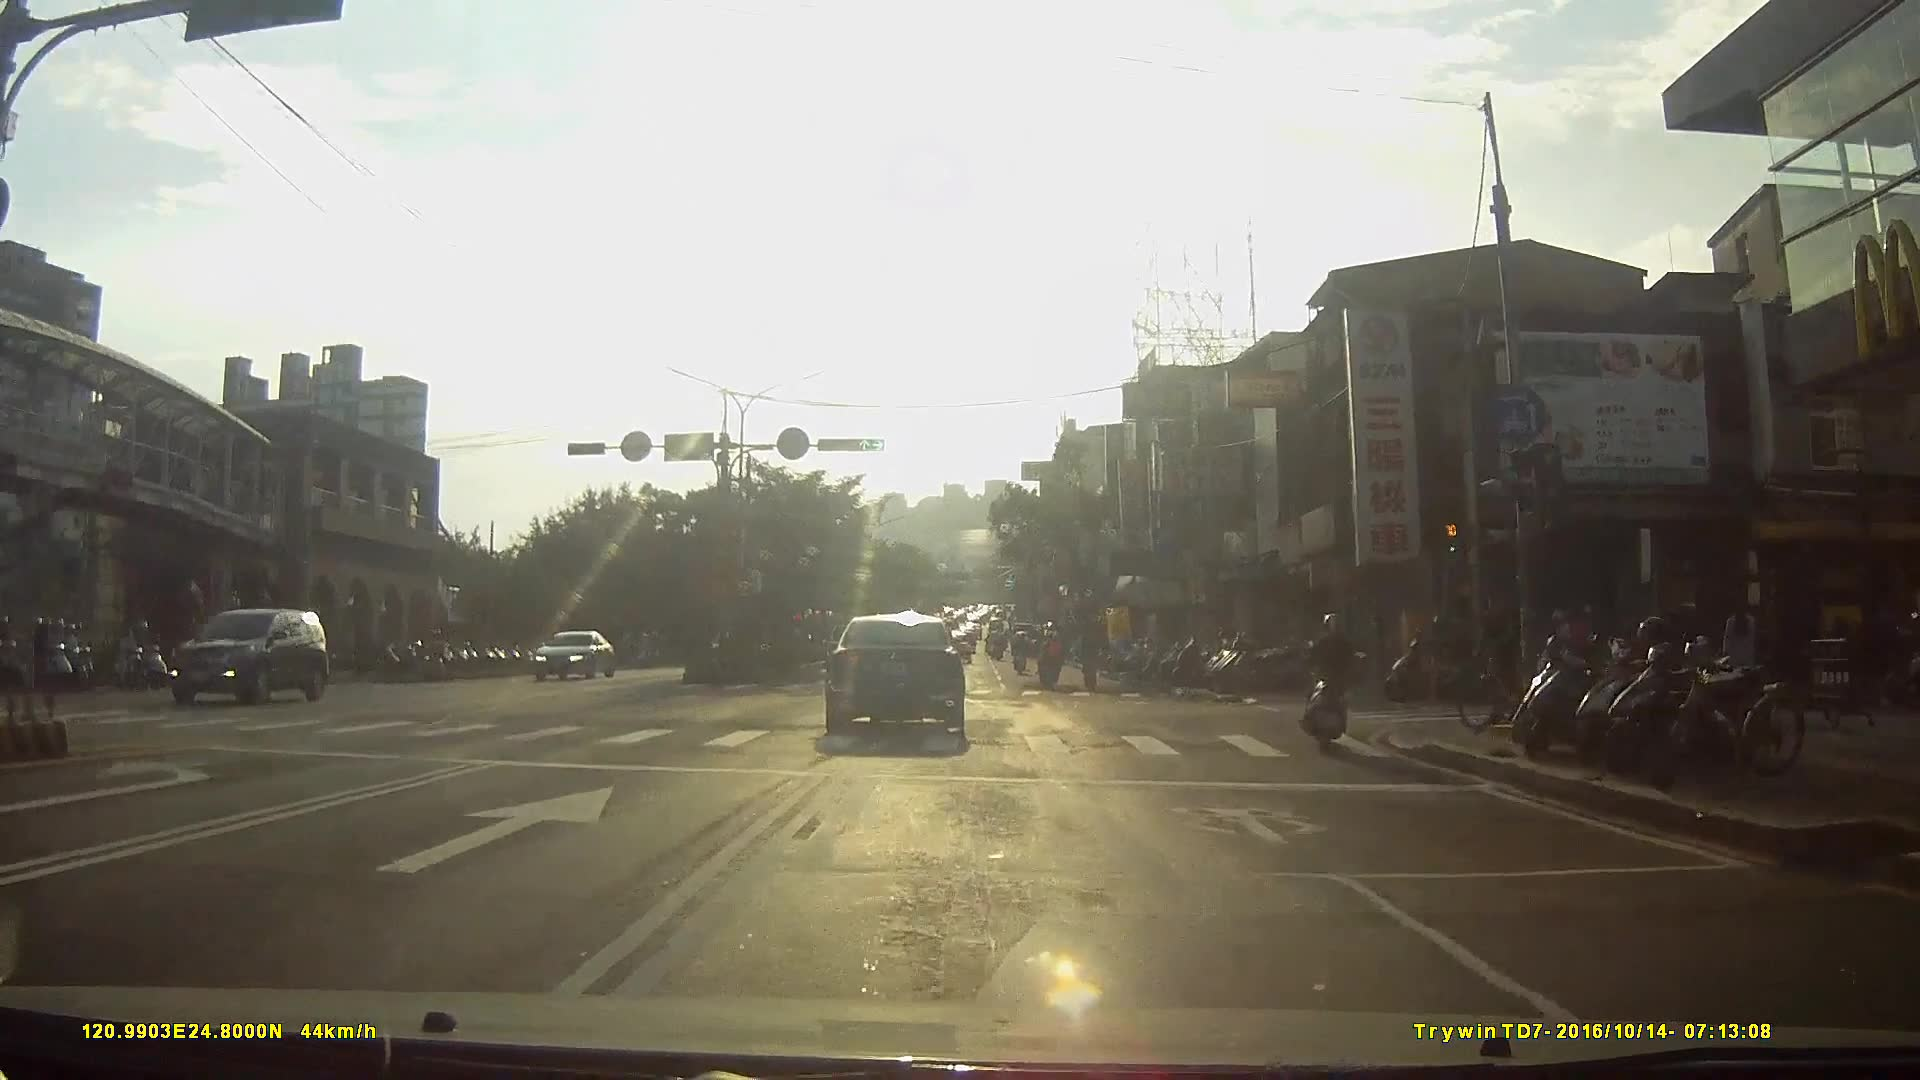pedestrian: (1721, 596, 1759, 702)
rider: (1449, 585, 1554, 732), (1302, 616, 1368, 751), (21, 616, 82, 692), (126, 617, 169, 692), (418, 624, 455, 680), (1038, 628, 1067, 691), (1009, 633, 1032, 678)
vehicle: (825, 609, 983, 749), (168, 606, 340, 709), (534, 631, 621, 682)
